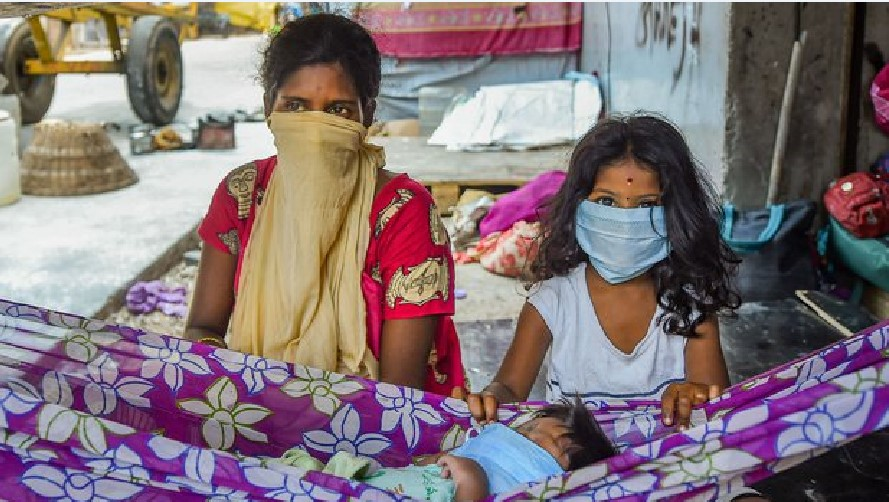face_with_mask: (573, 130, 683, 285), (262, 27, 381, 169), (449, 401, 618, 481)
